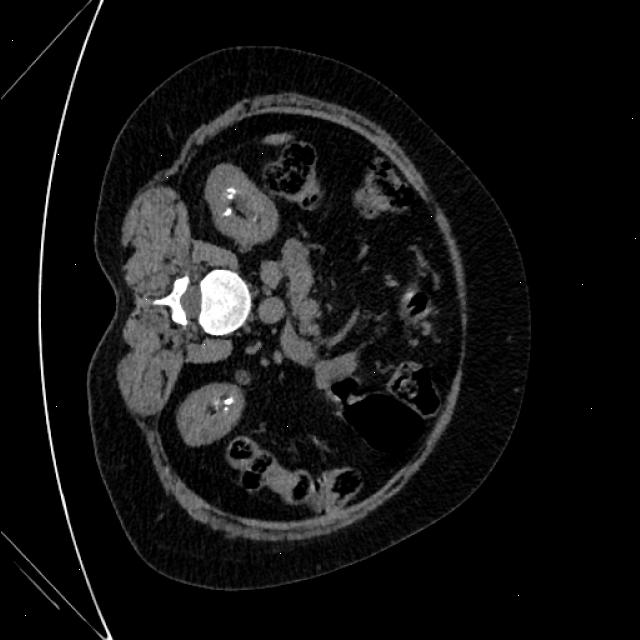kidneystone: (226, 188, 235, 200), (223, 208, 231, 216), (223, 400, 228, 411), (223, 399, 234, 402)
